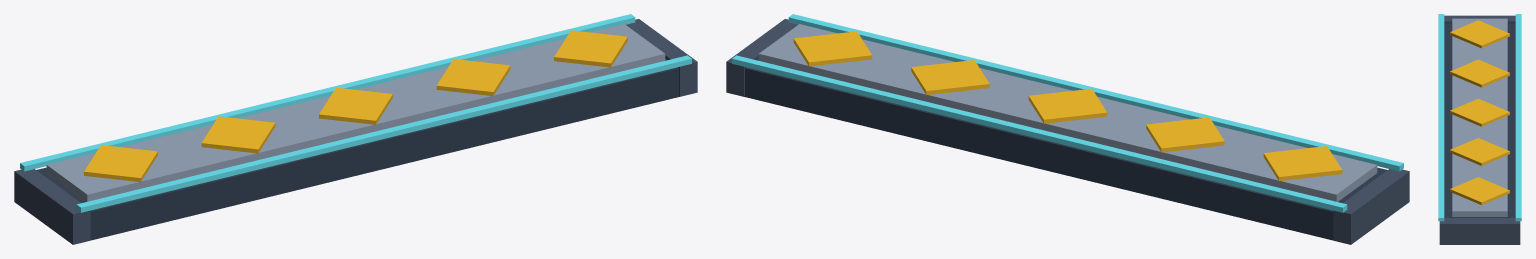
Rendered from toy_sky_narrow_beam.glb.
3 views of the same model, side by side, from view 1: azimuth 30°, elevation 25°; view 2: azimuth 150°, elevation 25°; view 3: azimuth 270°, elevation 25° (orthographic). The views are drawn at different scales.
Visible parts, largest first — view 1: solid_2, solid_1, solid_4, solid_3, solid_10, solid_6, solid_9, solid_8, solid_5, solid_7, solid_11; view 2: solid_2, solid_1, solid_3, solid_4, solid_10, solid_7, solid_5, solid_9, solid_6, solid_8, solid_11; view 3: solid_2, solid_1, solid_11, solid_3, solid_4, solid_6, solid_7, solid_8, solid_5, solid_9, solid_10.
Part boxes in pixels (box(x1,y1,x2,y2)): solid_2: box(46, 24, 665, 201); solid_1: box(36, 58, 679, 240); solid_4: box(76, 55, 691, 212); solid_3: box(20, 14, 635, 171); solid_10: box(14, 169, 90, 244); solid_6: box(201, 116, 275, 153); solid_9: box(554, 30, 627, 67); solid_8: box(436, 59, 510, 95); solid_5: box(84, 145, 157, 182); solid_7: box(319, 87, 392, 124); solid_11: box(626, 19, 697, 96); solid_2: box(758, 24, 1377, 201); solid_1: box(744, 58, 1387, 240); solid_3: box(732, 55, 1347, 212); solid_4: box(788, 14, 1403, 171); solid_10: box(1333, 169, 1409, 244); solid_7: box(1028, 88, 1107, 123); solid_5: box(1263, 146, 1342, 181); solid_9: box(793, 31, 872, 66); solid_6: box(1146, 117, 1224, 152); solid_8: box(911, 60, 989, 95); solid_11: box(726, 19, 797, 96); solid_2: box(1452, 18, 1507, 216); solid_1: box(1444, 23, 1515, 217); solid_11: box(1439, 218, 1520, 244); solid_3: box(1515, 14, 1521, 221); solid_4: box(1438, 14, 1444, 221); solid_6: box(1450, 59, 1509, 87); solid_7: box(1450, 98, 1509, 126); solid_8: box(1450, 138, 1509, 165); solid_5: box(1450, 20, 1509, 48); solid_9: box(1450, 177, 1509, 205); solid_10: box(1444, 15, 1515, 23).
Size of the model in its own units: 6.38 by 0.43 by 1.08.
